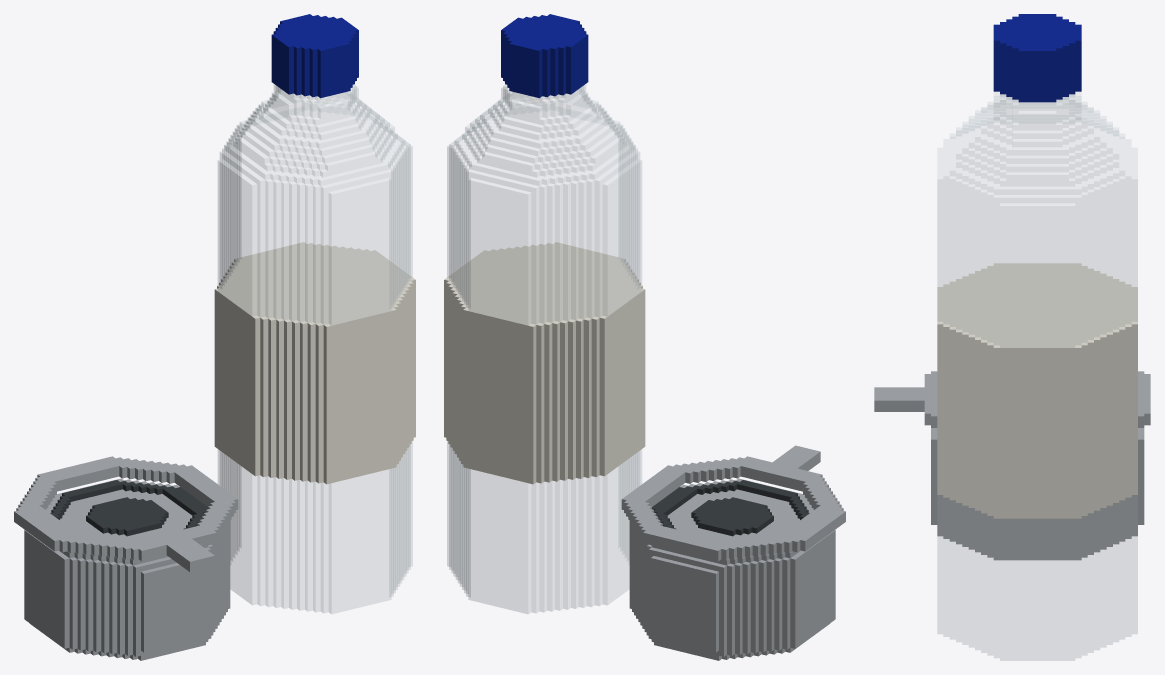
The model's file is popcan_stove.glb.
3 views of the same model, side by side, from view 1: azimuth 30°, elevation 25°; view 2: azimuth 150°, elevation 25°; view 3: azimuth 270°, elevation 25° (orthographic). The views are drawn at different scales.
Visible parts, largest first — view 1: popcan_stove:compound; view 2: popcan_stove:compound; view 3: popcan_stove:compound.
Part boxes in pixels (<box>): popcan_stove:compound: <box>14,14,415,660</box>; popcan_stove:compound: <box>444,14,845,660</box>; popcan_stove:compound: <box>874,14,1150,660</box>.
Size of the model in its own units: 0.144 by 0.206 by 0.088.
